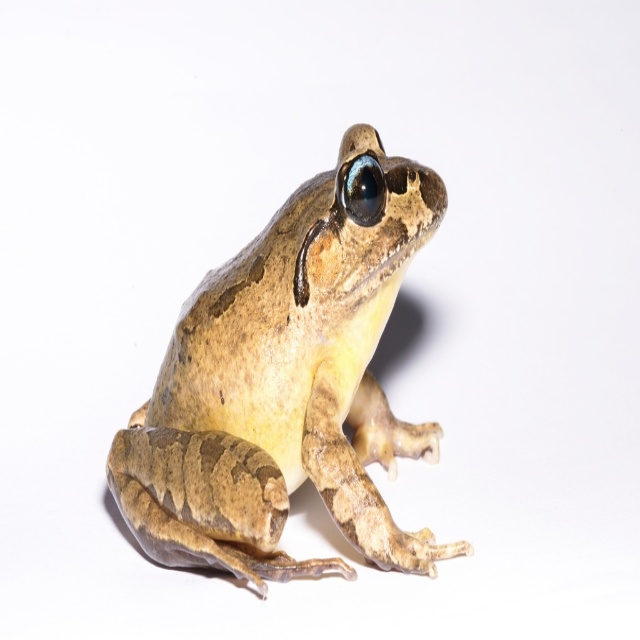Frog: (105, 120, 475, 599)
